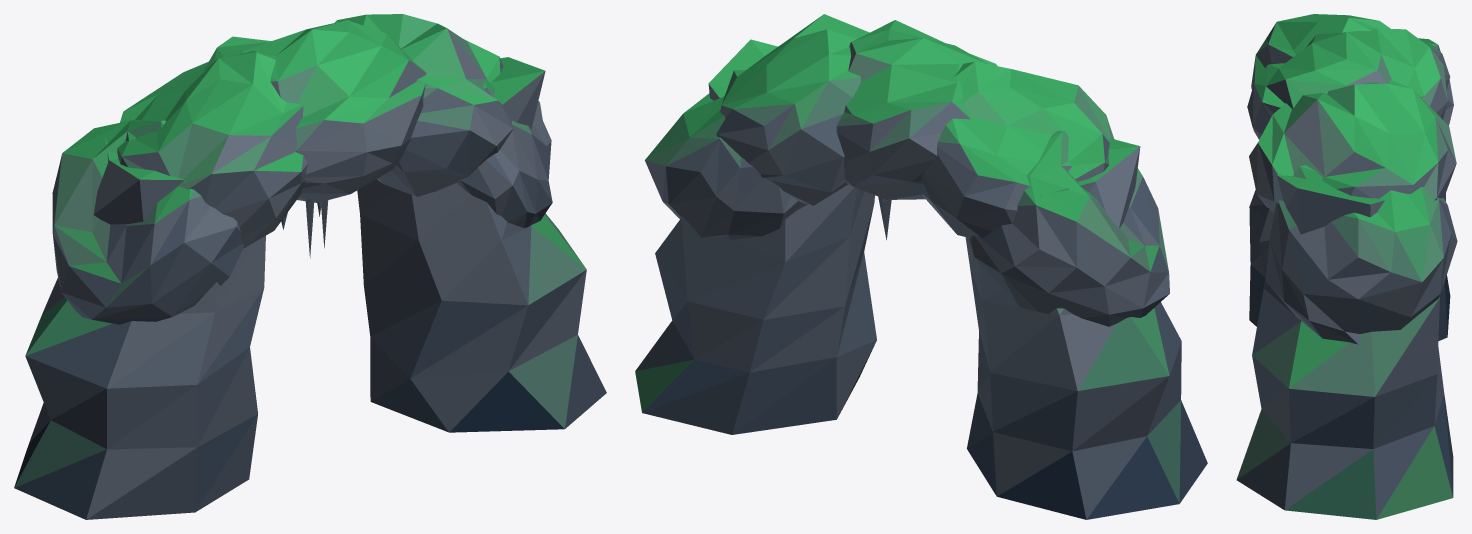
Rendered from batu_arch_granite_644925.glb.
3 views of the same model, side by side, from view 1: azimuth 30°, elevation 25°; view 2: azimuth 150°, elevation 25°; view 3: azimuth 270°, elevation 25° (orthographic). The views are drawn at different scales.
Visible parts, largest first — view 1: Lengkungan_Gua_Batu; view 2: Lengkungan_Gua_Batu; view 3: Lengkungan_Gua_Batu.
Part boxes in pixels (box(x1,y1,x2,y2)): Lengkungan_Gua_Batu: box(14, 14, 606, 519); Lengkungan_Gua_Batu: box(635, 14, 1207, 519); Lengkungan_Gua_Batu: box(1236, 14, 1457, 519).
Size of the model in its own units: 10.53 by 7.17 by 3.96.
